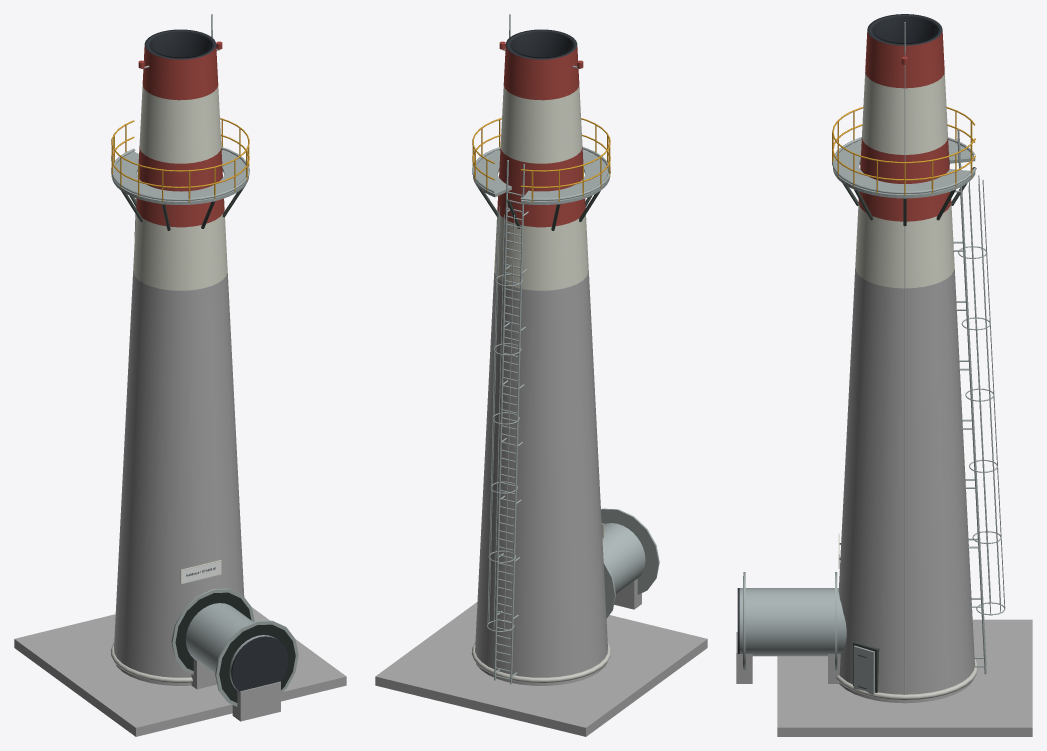
The model's file is industrial-chimney.glb.
3 views of the same model, side by side, from view 1: azimuth 30°, elevation 25°; view 2: azimuth 150°, elevation 25°; view 3: azimuth 270°, elevation 25° (orthographic). The views are drawn at different scales.
Parts seen in each view (by area): view 1: tapered_chimney_stack_cast-concrete, industrial-chimney_cast-concrete, tapered_chimney_stack_off-white-painted, tapered_chimney_stack_fire-protection-red, industrial-chimney_galvanized-steel, industrial-chimney_rubber-gaskets, industrial-chimney_brushed-metal-panels, industrial-chimney_dark-service-metal, tapered_chimney_stack_dark-service-metal, industrial-chimney_safety-yellow, industrial-chimney_powder-coated-frame, tapered_chimney_stack_light-precast-concrete; view 2: tapered_chimney_stack_cast-concrete, industrial-chimney_cast-concrete, industrial-chimney_galvanized-steel, tapered_chimney_stack_off-white-painted, tapered_chimney_stack_fire-protection-red, industrial-chimney_brushed-metal-panels, tapered_chimney_stack_dark-service-metal, industrial-chimney_safety-yellow, tapered_chimney_stack_light-precast-concrete; view 3: tapered_chimney_stack_cast-concrete, industrial-chimney_cast-concrete, tapered_chimney_stack_off-white-painted, industrial-chimney_galvanized-steel, tapered_chimney_stack_fire-protection-red, industrial-chimney_brushed-metal-panels, tapered_chimney_stack_dark-service-metal, industrial-chimney_safety-yellow, industrial-chimney_powder-coated-frame, tapered_chimney_stack_light-precast-concrete.
Boxes of the visible parts, box(x1,y1,x2,y2) form: tapered_chimney_stack_cast-concrete: box(114, 271, 244, 685); industrial-chimney_cast-concrete: box(14, 607, 346, 736); tapered_chimney_stack_off-white-painted: box(133, 85, 227, 290); tapered_chimney_stack_fire-protection-red: box(136, 45, 224, 227); industrial-chimney_galvanized-steel: box(111, 14, 298, 706); industrial-chimney_rubber-gaskets: box(175, 592, 295, 702); industrial-chimney_brushed-metal-panels: box(186, 603, 275, 690); industrial-chimney_dark-service-metal: box(231, 636, 288, 691); tapered_chimney_stack_dark-service-metal: box(144, 29, 216, 59); industrial-chimney_safety-yellow: box(111, 118, 249, 202); industrial-chimney_powder-coated-frame: box(121, 185, 245, 230); tapered_chimney_stack_light-precast-concrete: box(110, 642, 192, 682); tapered_chimney_stack_cast-concrete: box(475, 270, 607, 685); industrial-chimney_cast-concrete: box(375, 578, 707, 736); industrial-chimney_galvanized-steel: box(472, 14, 659, 684); tapered_chimney_stack_off-white-painted: box(494, 85, 588, 290); tapered_chimney_stack_fire-protection-red: box(497, 45, 585, 227); industrial-chimney_brushed-metal-panels: box(602, 523, 645, 593); tapered_chimney_stack_dark-service-metal: box(505, 29, 577, 59); industrial-chimney_safety-yellow: box(472, 118, 610, 202); tapered_chimney_stack_light-precast-concrete: box(471, 642, 611, 682); tapered_chimney_stack_cast-concrete: box(838, 268, 974, 703); industrial-chimney_cast-concrete: box(736, 619, 1032, 736); tapered_chimney_stack_off-white-painted: box(855, 72, 954, 288); industrial-chimney_galvanized-steel: box(743, 22, 1005, 700); tapered_chimney_stack_fire-protection-red: box(858, 31, 951, 221); industrial-chimney_brushed-metal-panels: box(739, 588, 846, 656); tapered_chimney_stack_dark-service-metal: box(867, 14, 942, 45); industrial-chimney_safety-yellow: box(832, 107, 975, 195); industrial-chimney_powder-coated-frame: box(839, 163, 976, 692); tapered_chimney_stack_light-precast-concrete: box(836, 659, 978, 699).
Size of the model in its own units: 7.8 by 22.8 by 9.05.
3 materials, 3 textured.
